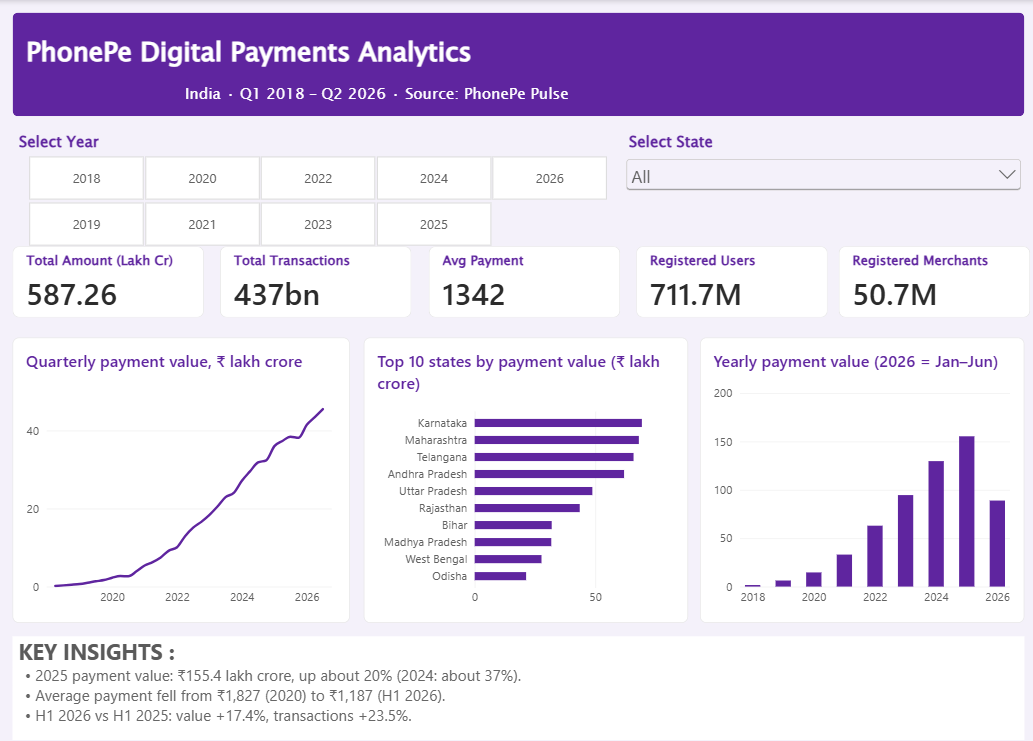

The page's visual inventory and layout, read from the dashboard file:
{"tool":"powerbi","page":{"name":"Overview","canvas":[1275,920],"ordinal":0},"visuals":[{"type":"shape","box":[16,16,1248,128],"z":0},{"type":"textbox","box":[32,32,736,112],"z":1000},{"type":"pageNavigator","box":[1799,0,121.4,63.8],"z":2000},{"type":"slicer","fields":{"Values":["dim_period.year"]},"box":[16,160,752,144],"z":3000},{"type":"slicer","fields":{"Values":["dim_state.state"]},"box":[768,160,496,144],"z":4000},{"type":"cardVisual","fields":{"Data":["fact_state.Total Amount (Lakh Cr)"]},"box":[16,304,236,88],"z":5000},{"type":"cardVisual","fields":{"Data":["fact_state.Total Transactions"]},"box":[272,304,236,88],"z":6000},{"type":"cardVisual","fields":{"Data":["fact_state.Avg Payment"]},"box":[528,304,236,88],"z":7000},{"type":"cardVisual","fields":{"Data":["fact_state.Registered Users"]},"box":[784,304,236,88],"z":8000},{"type":"cardVisual","fields":{"Data":["fact_state.Registered Merchants"]},"box":[1035,304,236,88],"z":9000},{"type":"lineChart","title":"Quarterly payment value, ₹ lakh crore","fields":{"Category":["dim_period.quarter_end"],"Y":["fact_state.Total Amount (Lakh Cr)"]},"box":[16,416,416,352],"z":10000},{"type":"barChart","title":"Top 10 states by payment value (₹ lakh crore)","fields":{"Category":["dim_state.state"],"Y":["fact_state.Total Amount (Lakh Cr)"]},"box":[448,416,400,352],"z":11000},{"type":"columnChart","title":"Yearly payment value (2026 = Jan–Jun)","fields":{"Category":["dim_period.year"],"Y":["fact_state.Total Amount (Lakh Cr)"]},"box":[864,416,400,352],"z":12000},{"type":"textbox","box":[16,784,1248,128],"z":13000}]}

Visuals, with their boxes in screenshot pixels (x1, y1, x2, y2), scaled from the page's 1275x920 canvas onto the 1033x741 screenshot:
shape: 13:13:1024:116
textbox: 26:26:622:116
slicer - dim_period.year: 13:129:622:245
slicer - dim_state.state: 622:129:1024:245
cardVisual - fact_state.Total Amount (Lakh Cr): 13:245:204:316
cardVisual - fact_state.Total Transactions: 220:245:412:316
cardVisual - fact_state.Avg Payment: 428:245:619:316
cardVisual - fact_state.Registered Users: 635:245:826:316
cardVisual - fact_state.Registered Merchants: 839:245:1030:316
"Quarterly payment value, ₹ lakh crore" lineChart: 13:335:350:619
"Top 10 states by payment value (₹ lakh crore)" barChart: 363:335:687:619
"Yearly payment value (2026 = Jan–Jun)" columnChart: 700:335:1024:619
textbox: 13:631:1024:735
